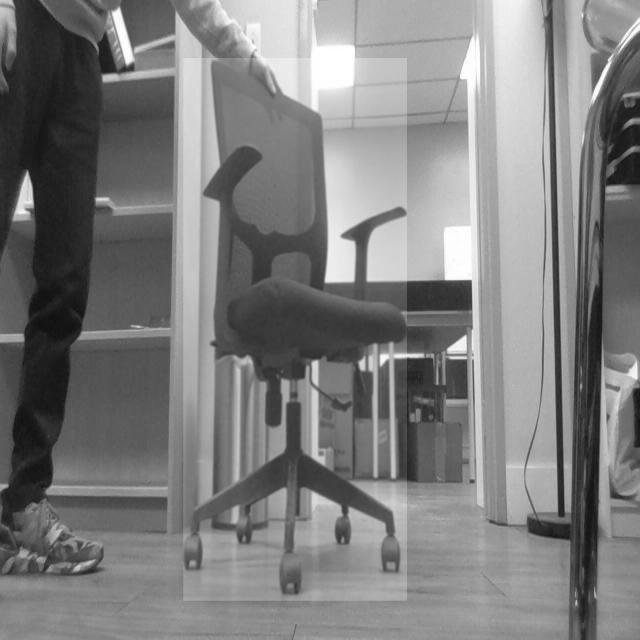chair: (170, 53, 411, 594)
